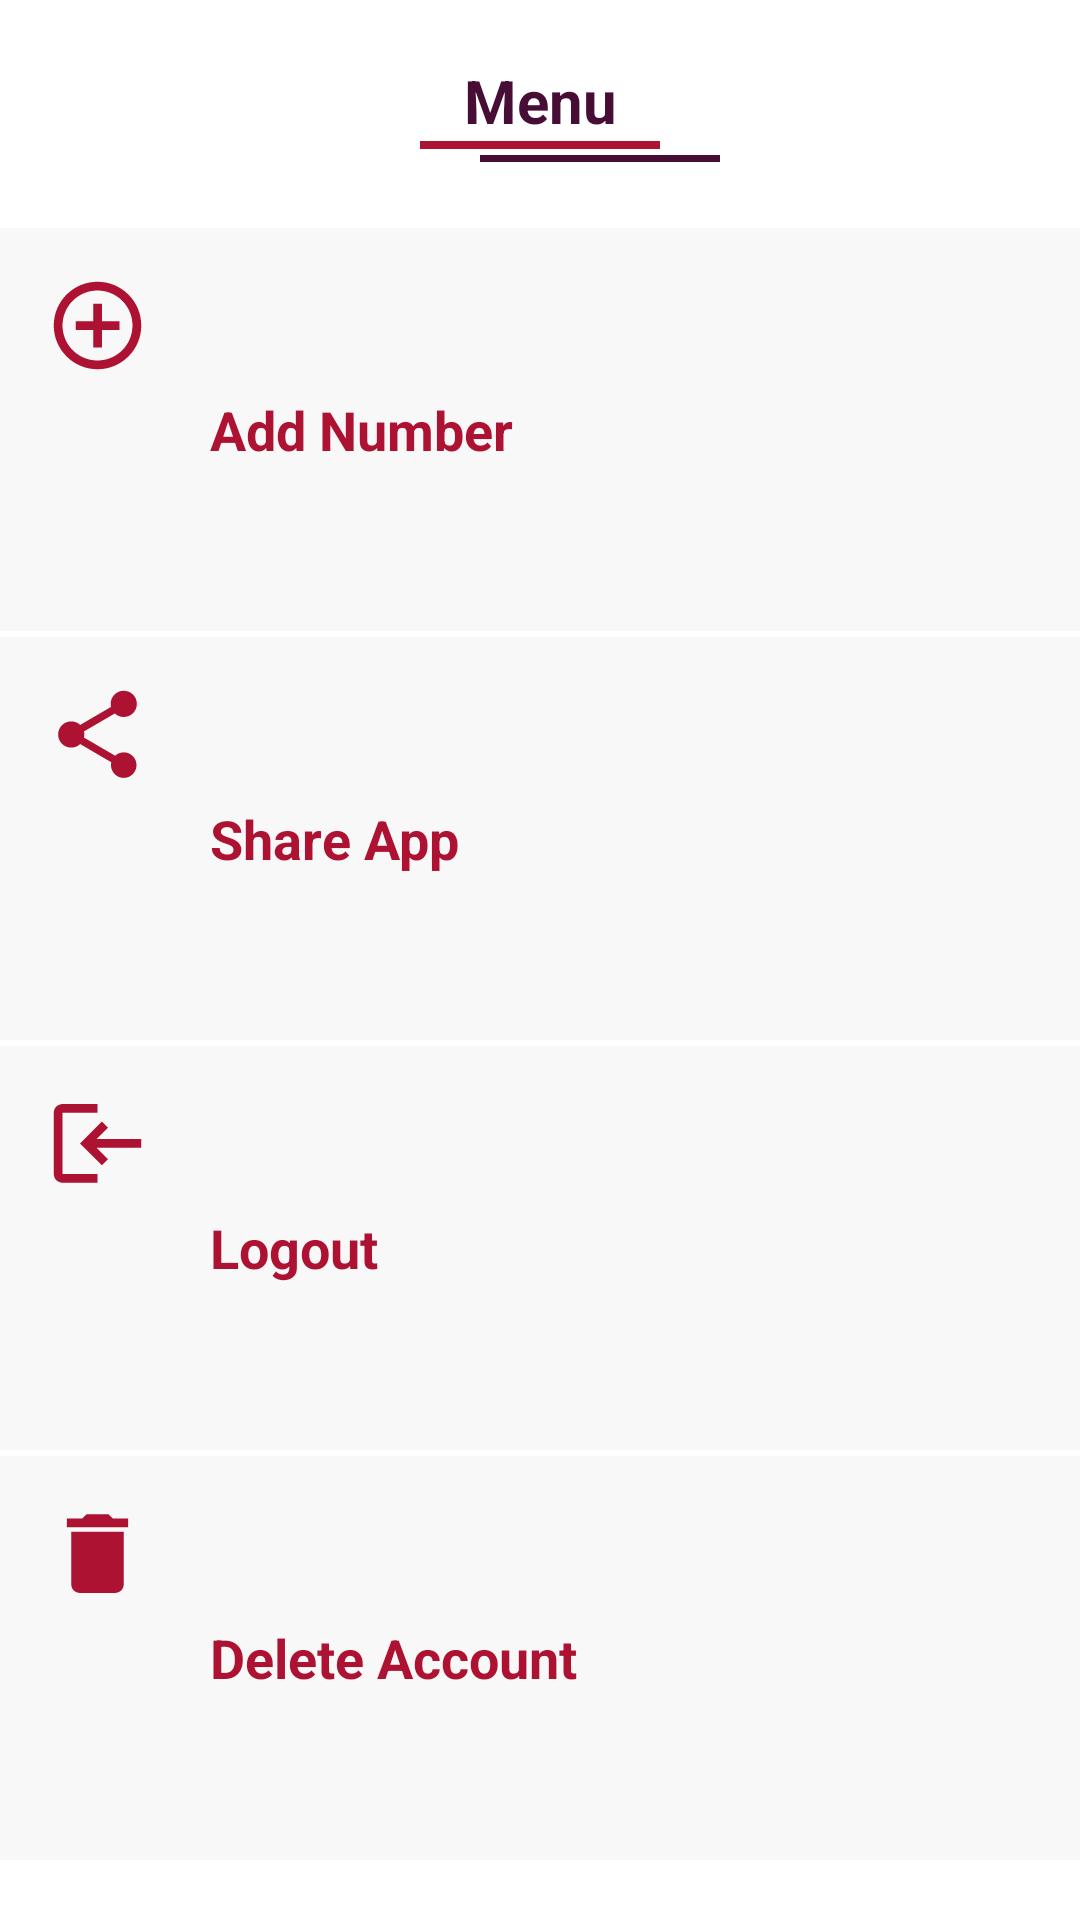

Locate icon controls on the screen. Image size 1080 x 1920, boxes as Rect(x1, y1, x2, y2).
del: Rect(66, 1514, 129, 1593)
